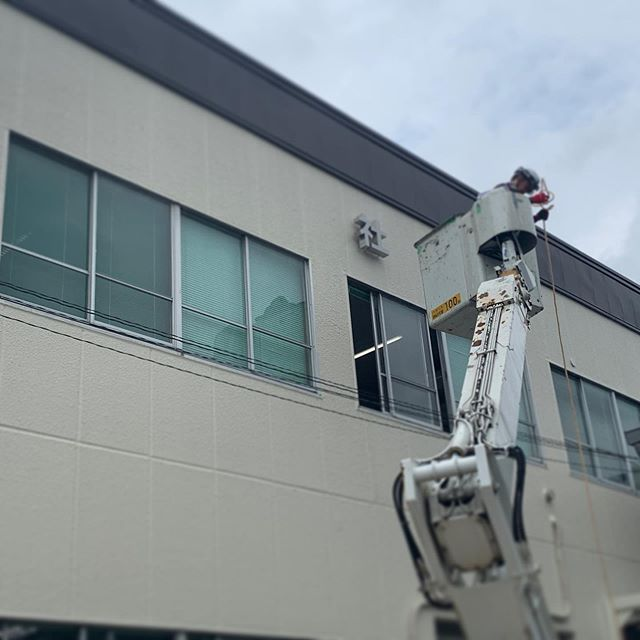building: (16, 3, 640, 640)
sky: (211, 1, 640, 245)
window: (1, 140, 315, 384), (349, 294, 535, 460), (545, 367, 640, 494)
